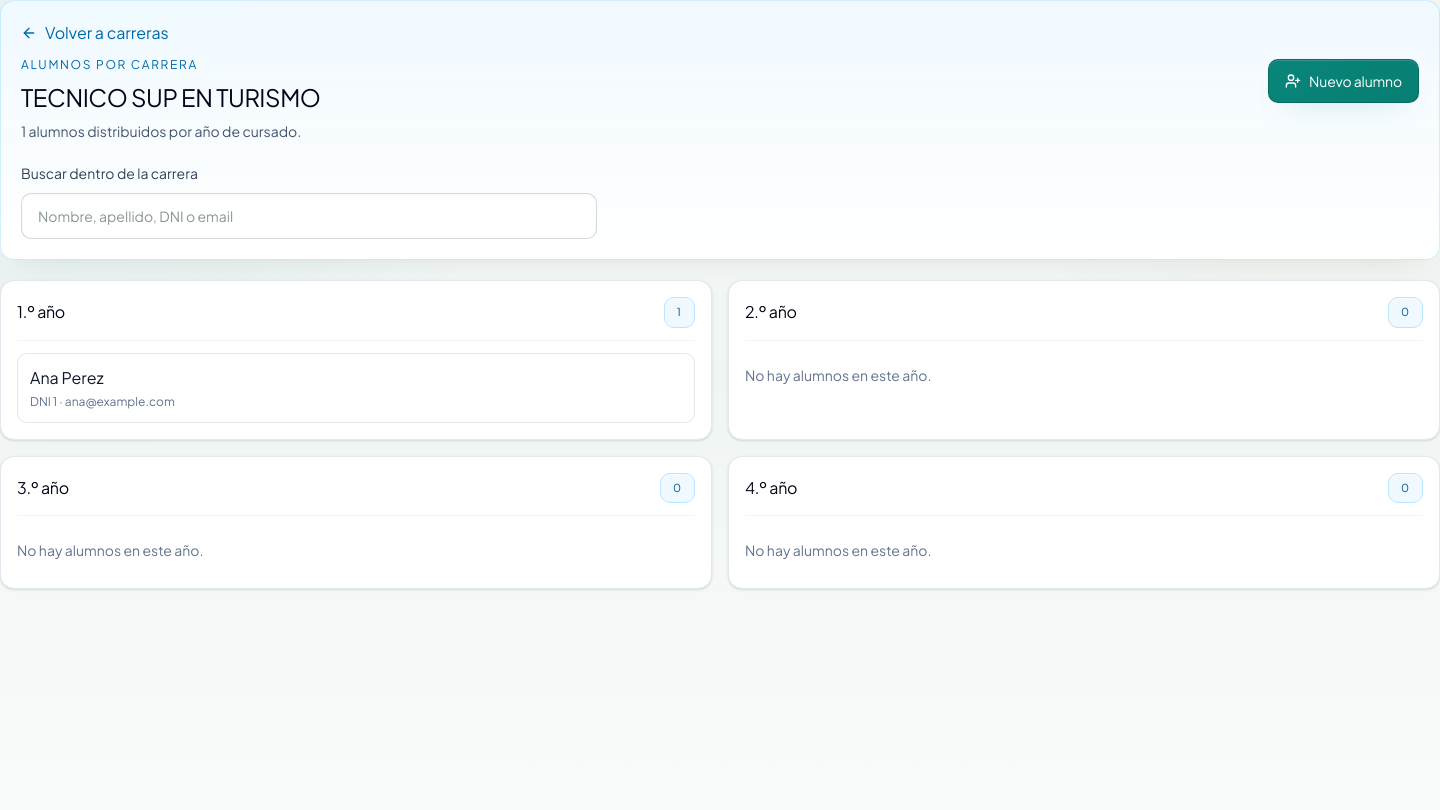
Scenario: StudentRosterSection con plantilla nueva › no duplica variantes abreviadas como carreras extra en el selector
Click the text "Ana Perez" at (67, 377), box [30,366,104,388]
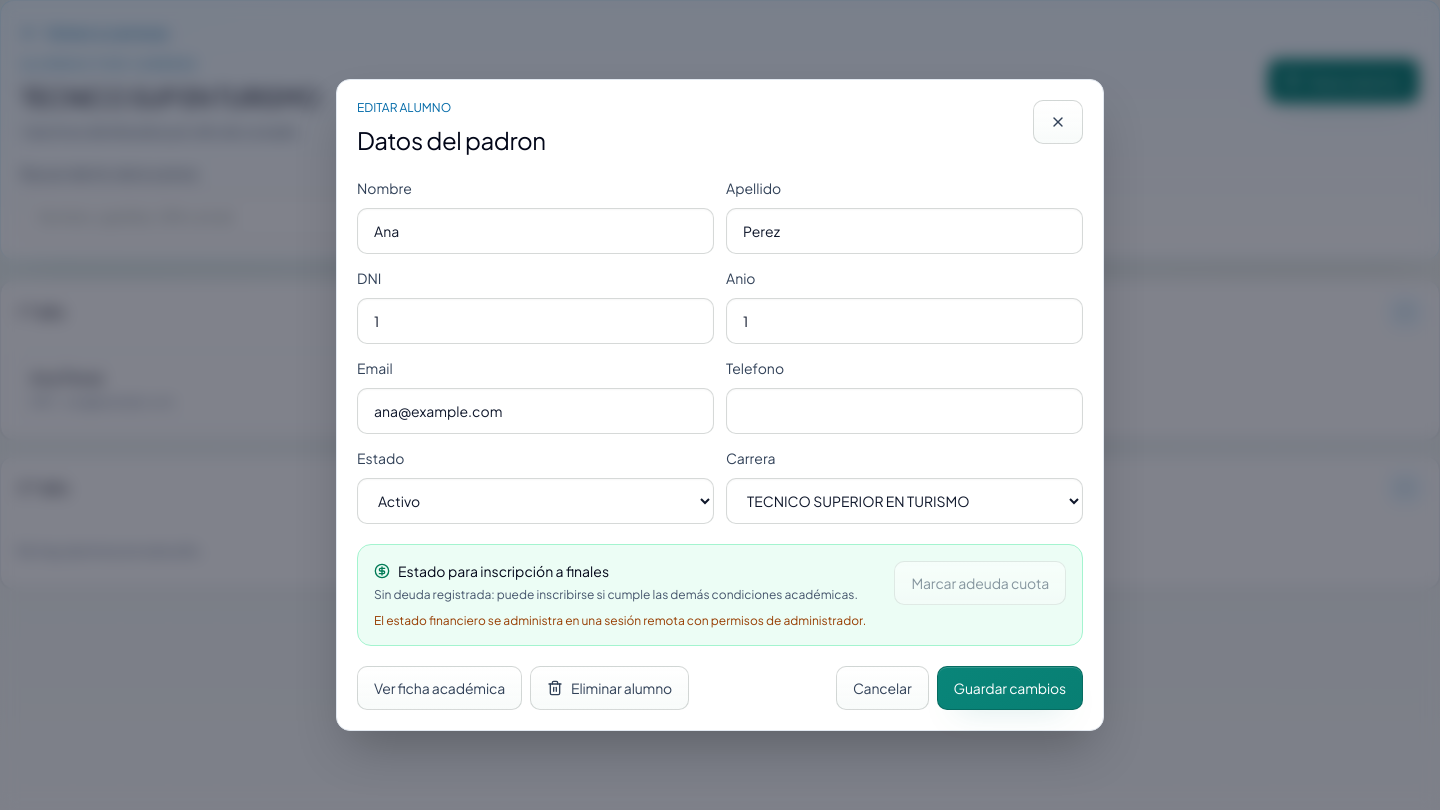
Check: the dropdown labelled "Carrera" shows "TECNICO SUPERIOR EN TURISMO", box [726,478,1083,524]
